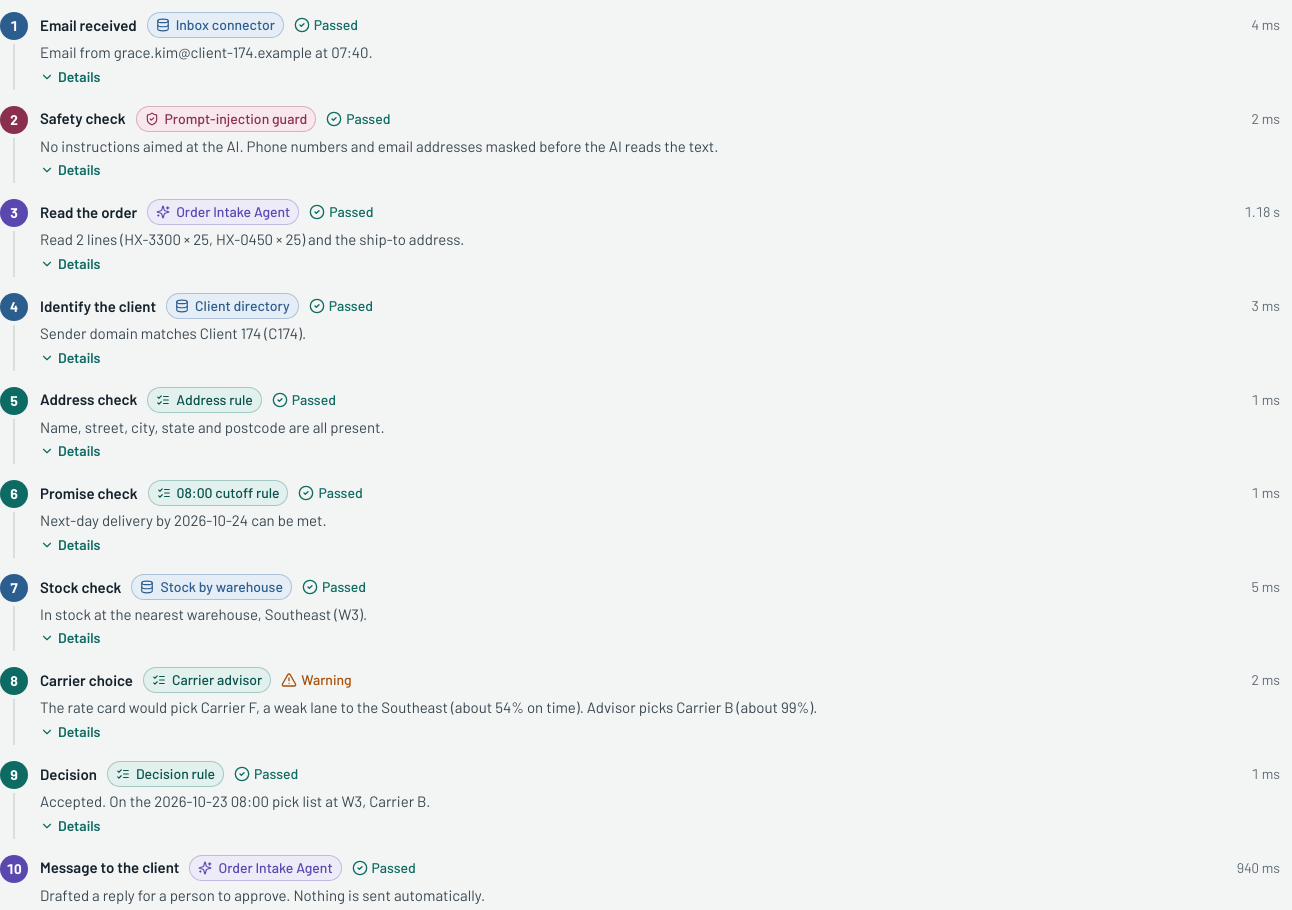
Test: Trace and decision components › renders one row per step with actor, status and expandable friendly details
This screenshot has width=1292, height=910.
Expected: the text "Carrier advisor" is shown, [172, 670, 262, 690]
Expected: the text "Warning" is shown, [281, 670, 352, 690]
Click the button "Details" below "Carrier choice": {"x": 70, "y": 732} [40, 722, 100, 742]
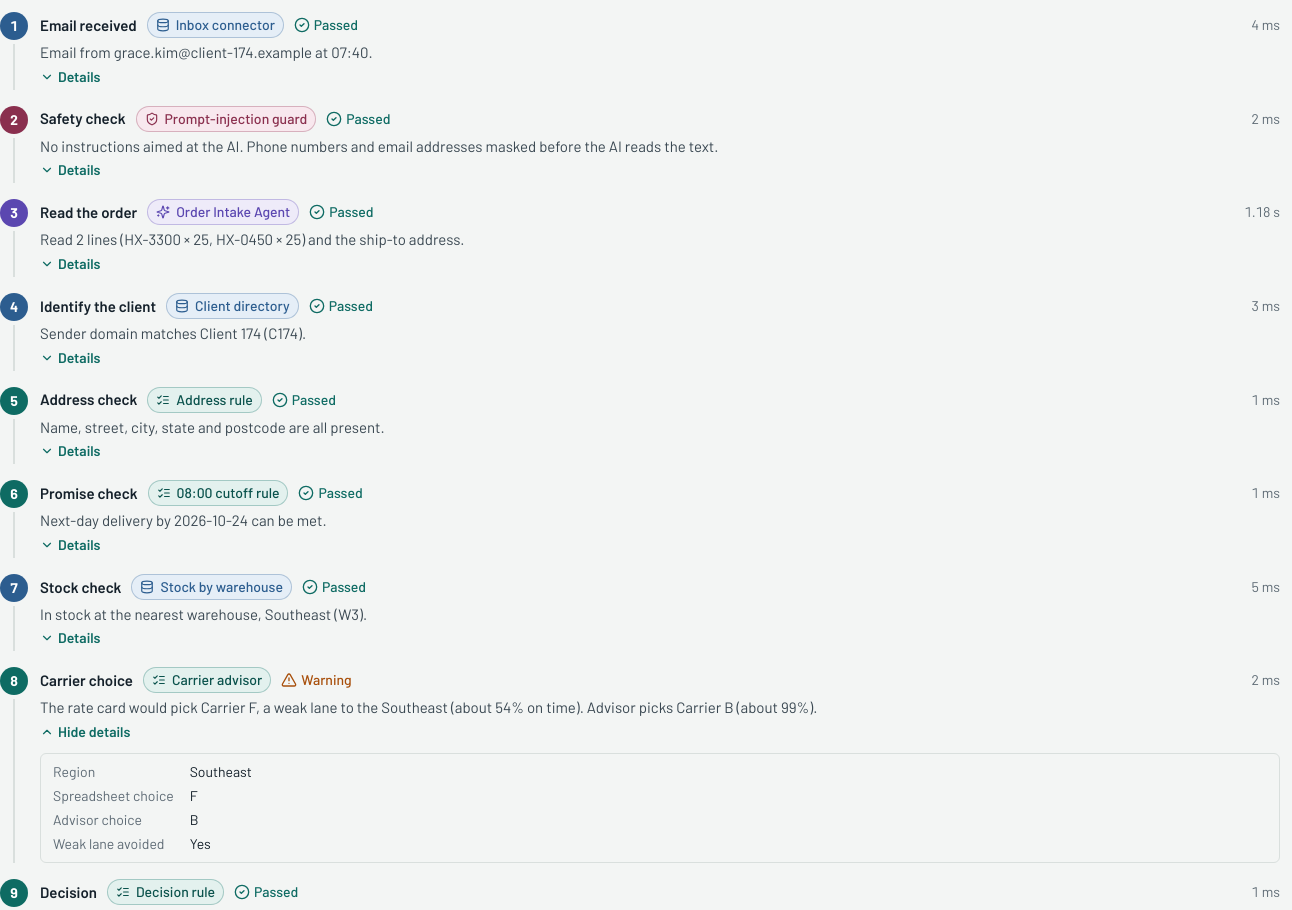
Expected: the text "Spreadsheet choice" is shown, [53, 786, 174, 806]
Expected: the text "Yes" is shown, [190, 835, 211, 852]
